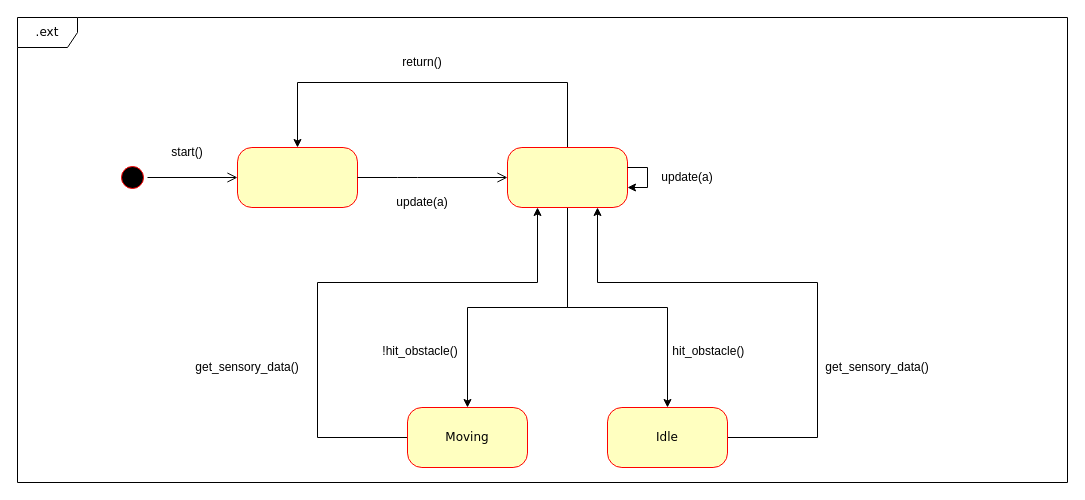
This 1085x500 diagram has some shape labels left out. Here are the shapes that lost their labels. From the top down, the box of each, then its label:
(236, 146, 358, 208): Home Position
(506, 146, 628, 208): Update
